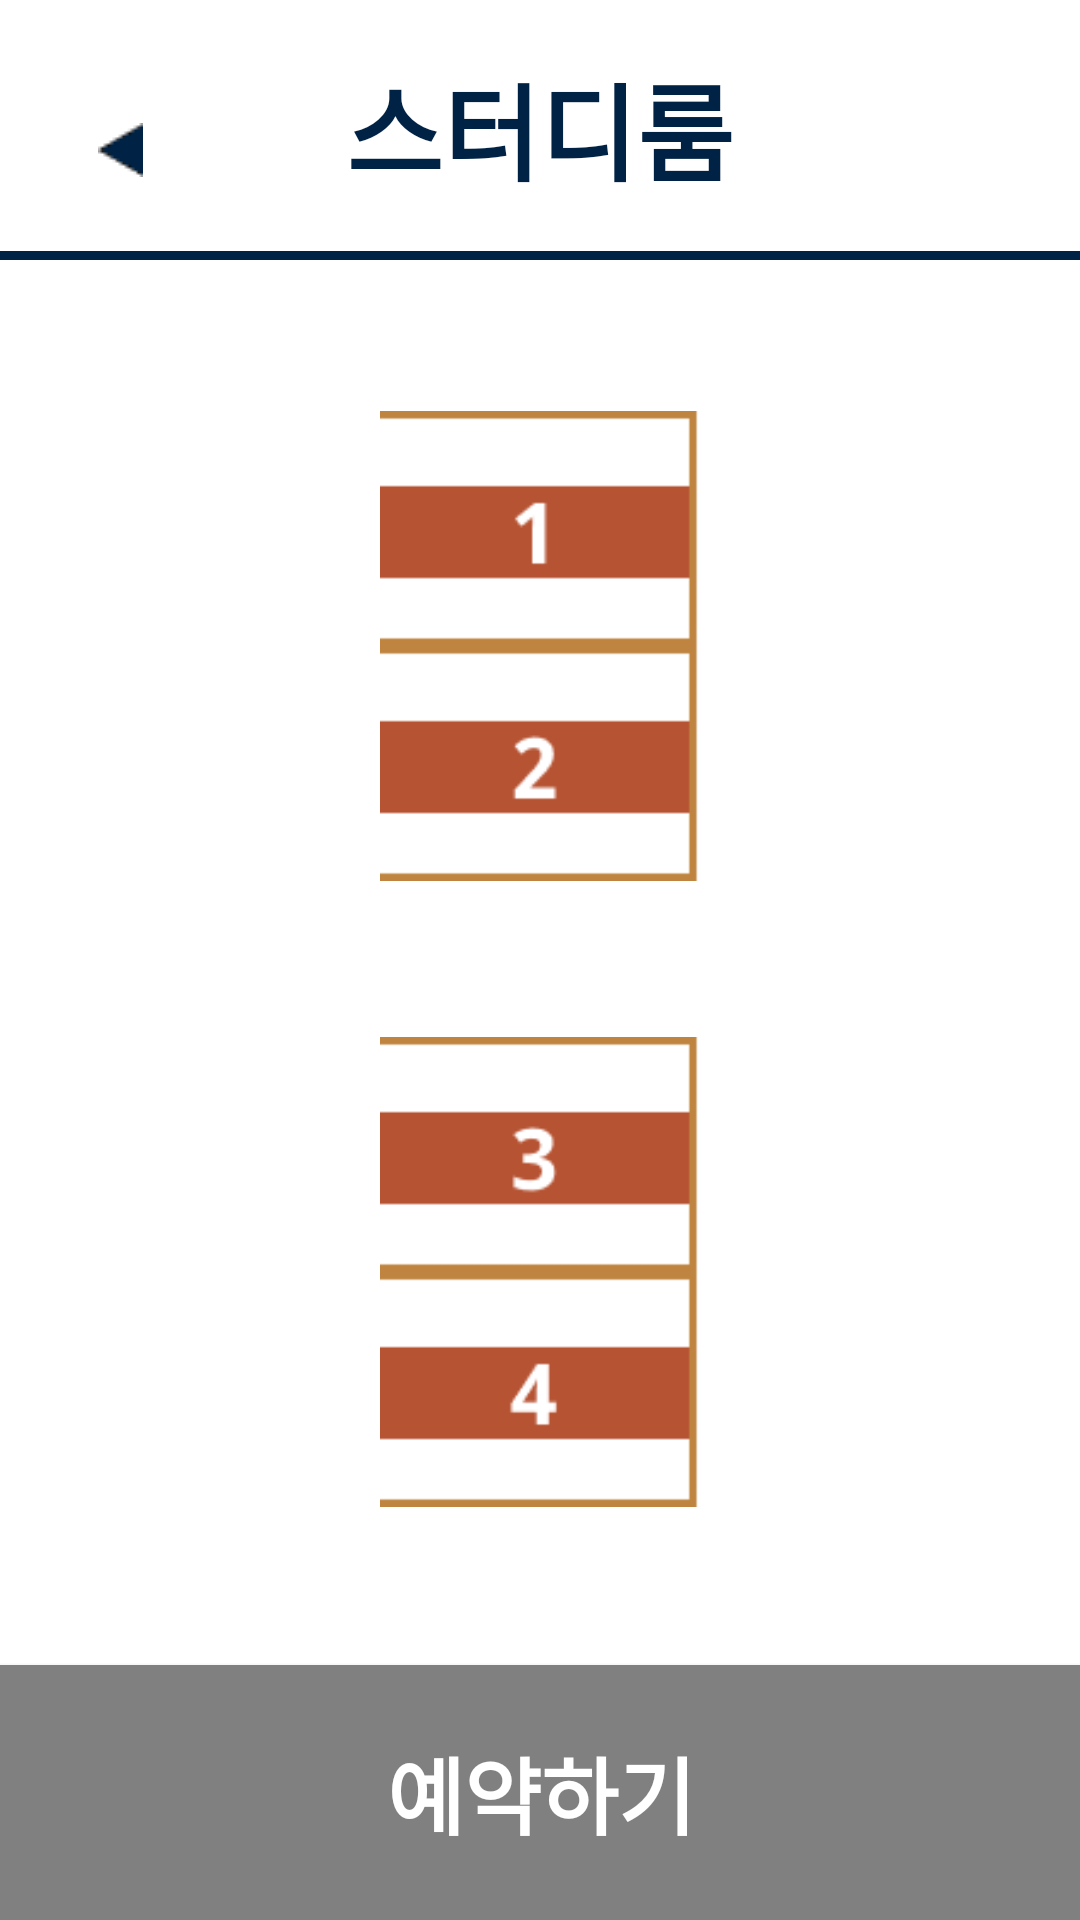

Where to tap for icons on this 1080 x 1920 app screen, as (x=x, y=y):
studyroom table: (x=538, y=528), (x=538, y=763), (x=538, y=1154), (x=538, y=1389)
